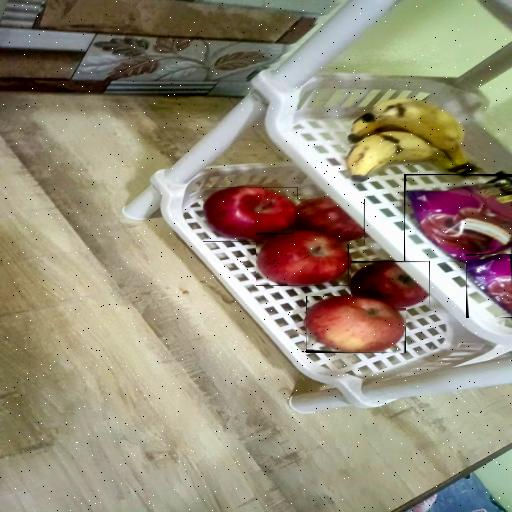Apple: (306, 296, 406, 353), (203, 187, 298, 242), (256, 233, 349, 286), (351, 261, 430, 308), (294, 200, 365, 246)
Choco Pie: (404, 174, 512, 262), (466, 254, 512, 318)
